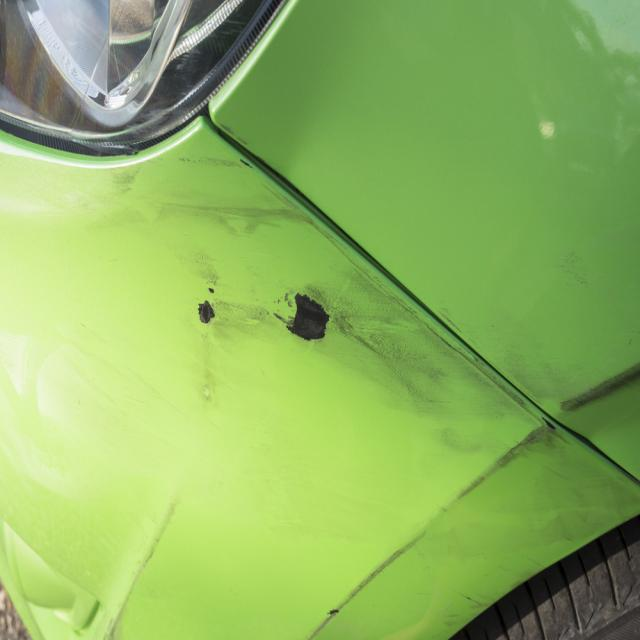scratch: (115, 153, 573, 640), (484, 304, 640, 415)
